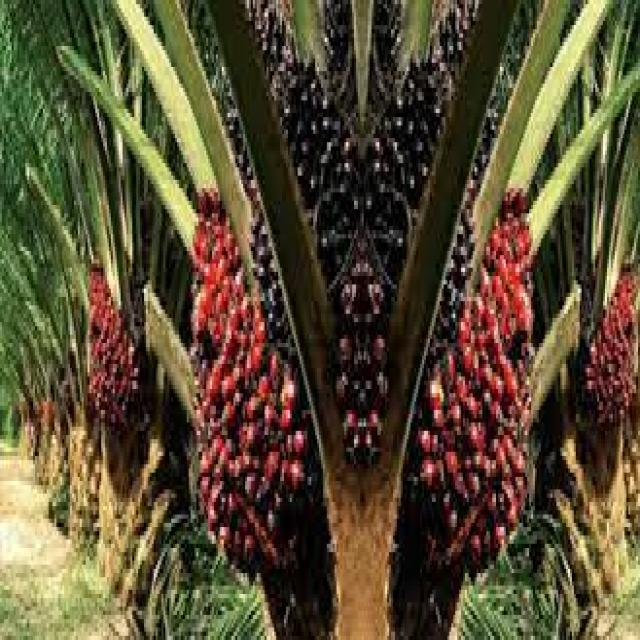FFB: (192, 185, 315, 566), (409, 187, 530, 564), (317, 124, 414, 466), (390, 60, 453, 216), (90, 258, 143, 439), (274, 57, 333, 216), (586, 267, 636, 423)
